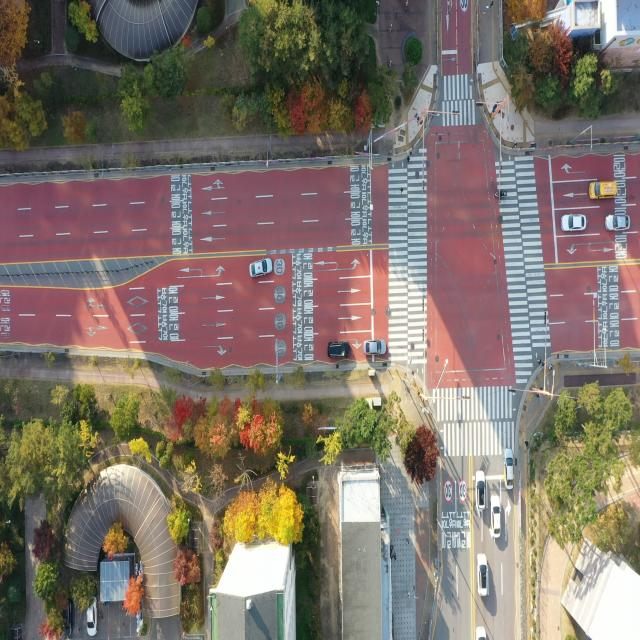car: (587, 179, 618, 200), (476, 553, 489, 596), (249, 257, 272, 281), (85, 596, 98, 638), (474, 469, 485, 511), (562, 213, 586, 231), (491, 496, 501, 538), (606, 213, 628, 230), (504, 449, 513, 489), (363, 341, 386, 356), (329, 343, 351, 358), (477, 626, 490, 640)
